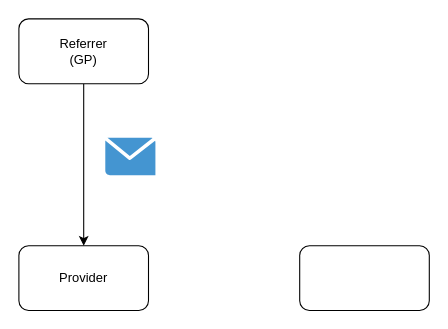
Image size: 448x329. Some labels were removed from this diagram. The box of each missing label's shape, as (x1, y1, x2, y2) in pixels:
Booking: (299, 245, 429, 310)
Patient Referral: (105, 137, 155, 175)
